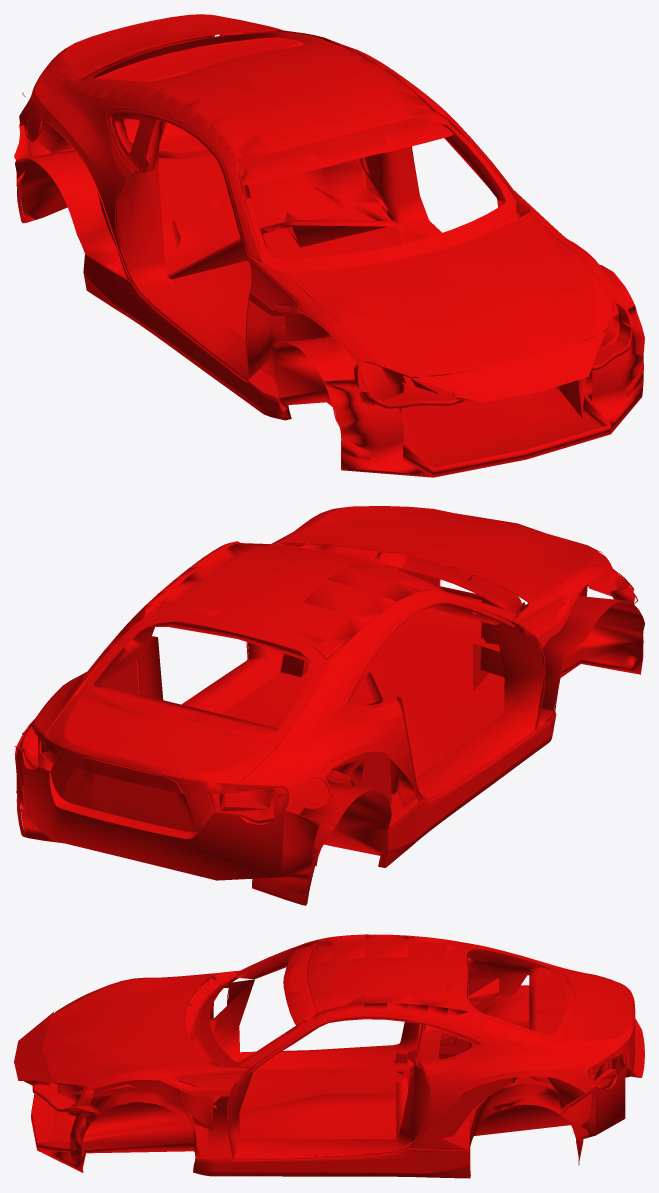
The model's file is nfsLod_base.fbx.
3 renders of one model, top to bottom at view 1: azimuth 30°, elevation 25°; view 2: azimuth 150°, elevation 25°; view 3: azimuth 270°, elevation 25°, orthographic. The views are drawn at different scales.
Parts seen in each view (by area): view 1: polySurface90; view 2: polySurface90; view 3: polySurface90.
Part boxes in pixels (<box>): polySurface90: <box>14,14,644,477</box>; polySurface90: <box>14,506,644,905</box>; polySurface90: <box>14,934,644,1178</box>.
Size of the model in its own units: 187 by 115 by 416.
